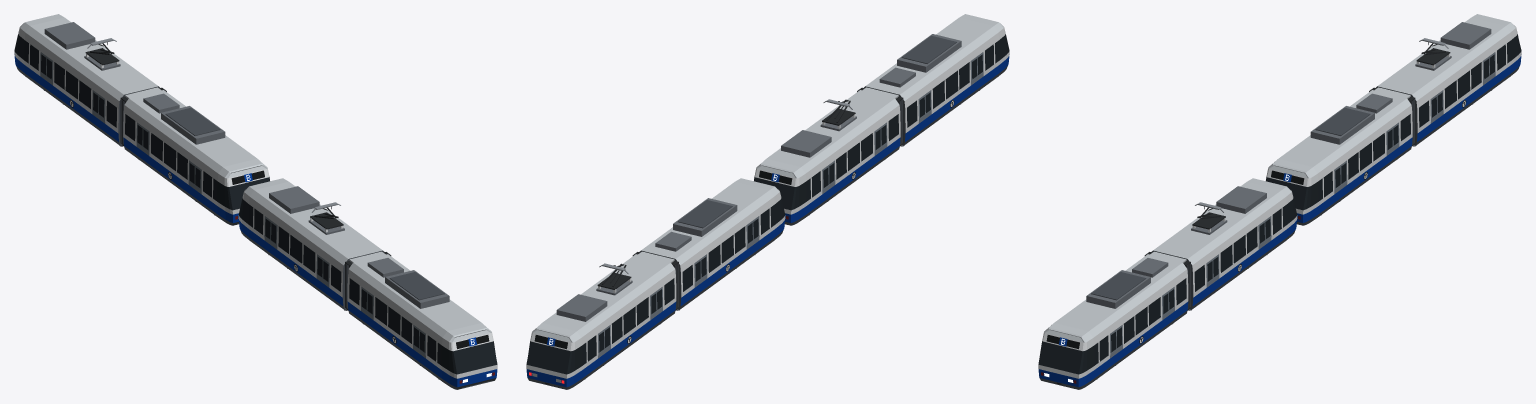
The model's file is mbta-train-blue.glb.
3 renders of one model, left to right at view 1: azimuth 30°, elevation 25°; view 2: azimuth 150°, elevation 25°; view 3: azimuth 330°, elevation 25°, orthographic.
Visible parts, largest first — view 1: mbta-green-line-train; view 2: mbta-green-line-train; view 3: mbta-green-line-train.
Boxes of the visible parts, <box> form: mbta-green-line-train: <box>14,14,497,389</box>; mbta-green-line-train: <box>526,14,1009,389</box>; mbta-green-line-train: <box>1038,14,1521,389</box>.
Size of the model in its own units: 2.72 by 4.36 by 45.01.
